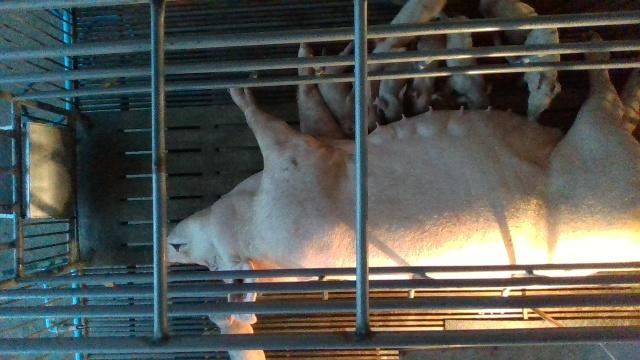piglet: (369, 0, 446, 73), (442, 11, 492, 115), (317, 40, 355, 137), (523, 29, 562, 122), (205, 312, 265, 360), (411, 35, 445, 116), (479, 0, 537, 45), (375, 62, 414, 123)
sow-sleep-lactate: (166, 32, 640, 324)
